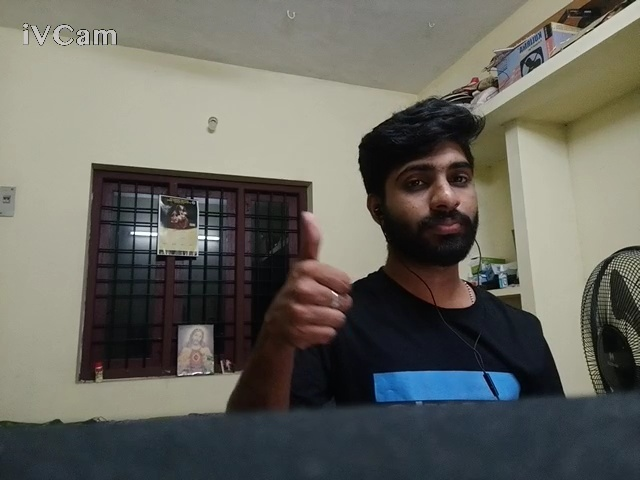Yes: (220, 205, 381, 366)
